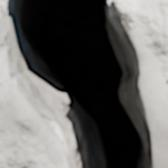broken_brick: (0, 17, 61, 167), (115, 0, 167, 167)
crack: (2, 0, 165, 167)
